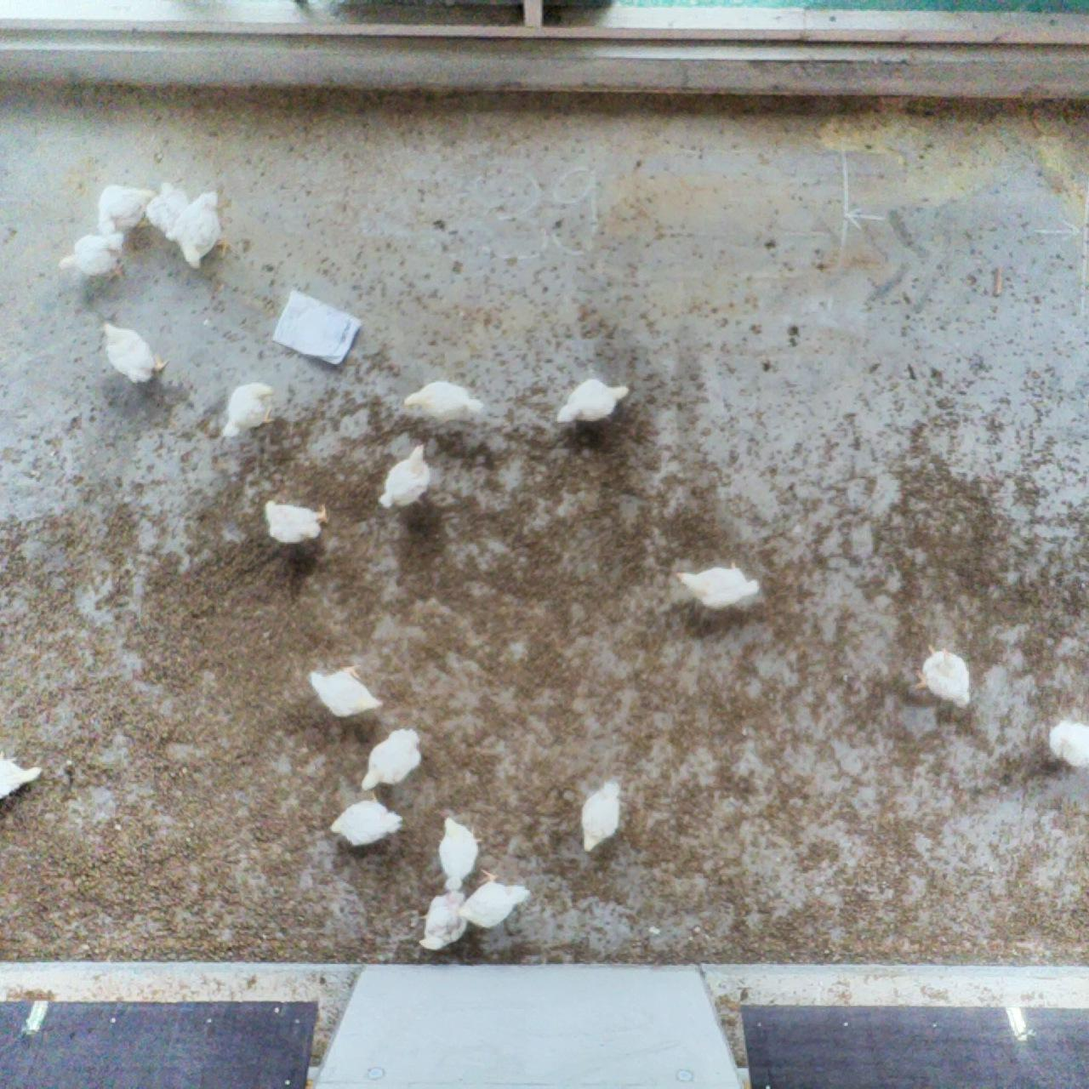chicken: (171, 188, 234, 272), (672, 557, 763, 614), (98, 317, 168, 391), (399, 377, 486, 435), (306, 660, 385, 721), (909, 641, 974, 715), (459, 867, 533, 932), (357, 725, 426, 794), (327, 792, 406, 852), (552, 376, 636, 427), (376, 442, 435, 514), (576, 778, 629, 858), (56, 229, 127, 288), (415, 885, 470, 958), (435, 810, 485, 890), (219, 379, 279, 441), (91, 181, 156, 238), (260, 494, 329, 546), (145, 178, 193, 240), (0, 747, 44, 804), (1046, 716, 1089, 770)
